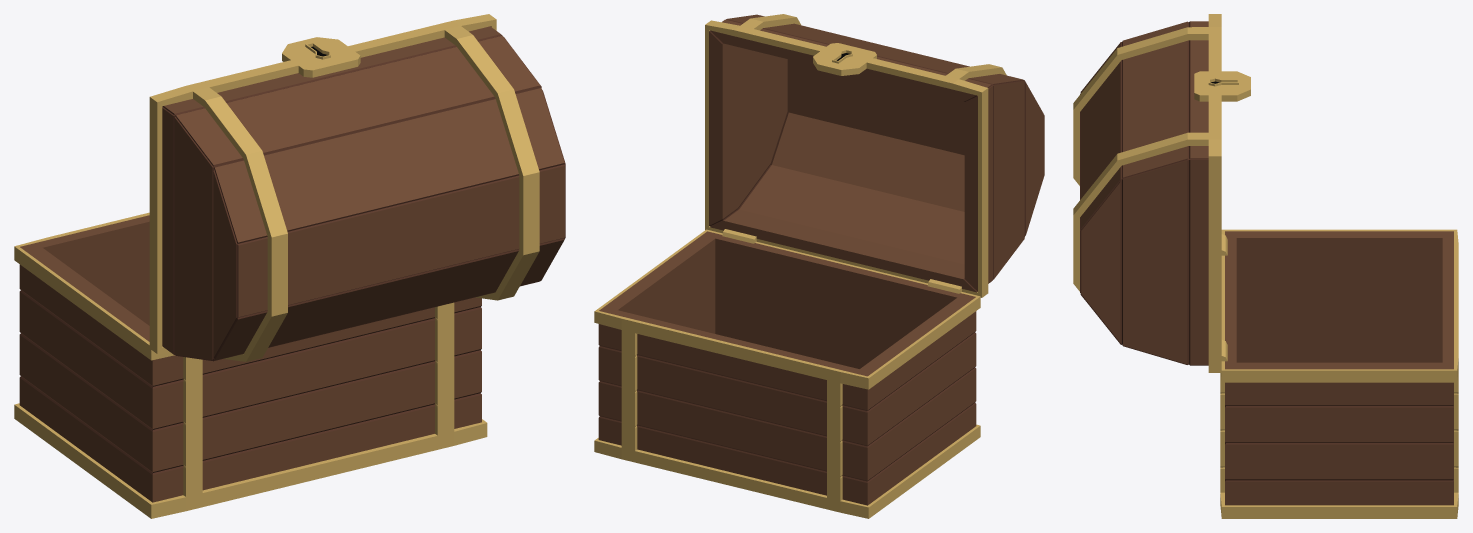
File: EmptyChest.fbx
The picture shows the model from 3 angles, left to right: view 1: azimuth 30°, elevation 25°; view 2: azimuth 150°, elevation 25°; view 3: azimuth 270°, elevation 25°; orthographic projection. The views are drawn at different scales.
Visible parts, largest first — view 1: EmptyChest; view 2: EmptyChest; view 3: EmptyChest.
Boxes of the visible parts, box(x1,y1,x2,y2) form: EmptyChest: box(14, 14, 565, 518); EmptyChest: box(594, 14, 1044, 518); EmptyChest: box(1073, 14, 1458, 518).
Size of the model in its own units: 103 by 124 by 118.
